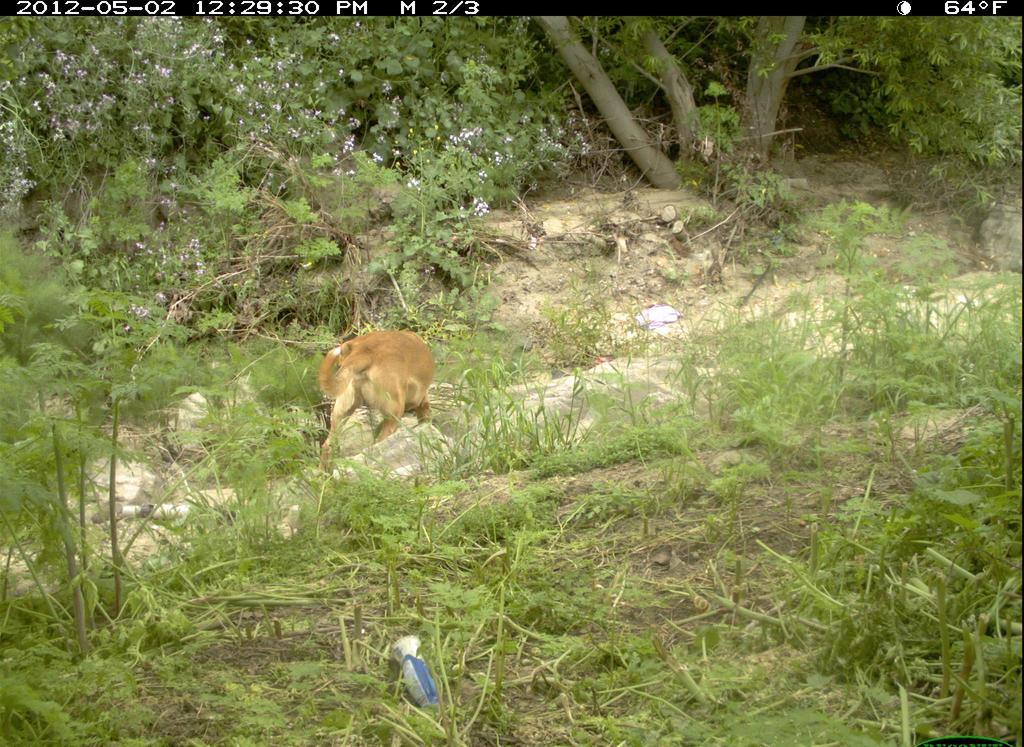dog: (297, 322, 449, 477)
